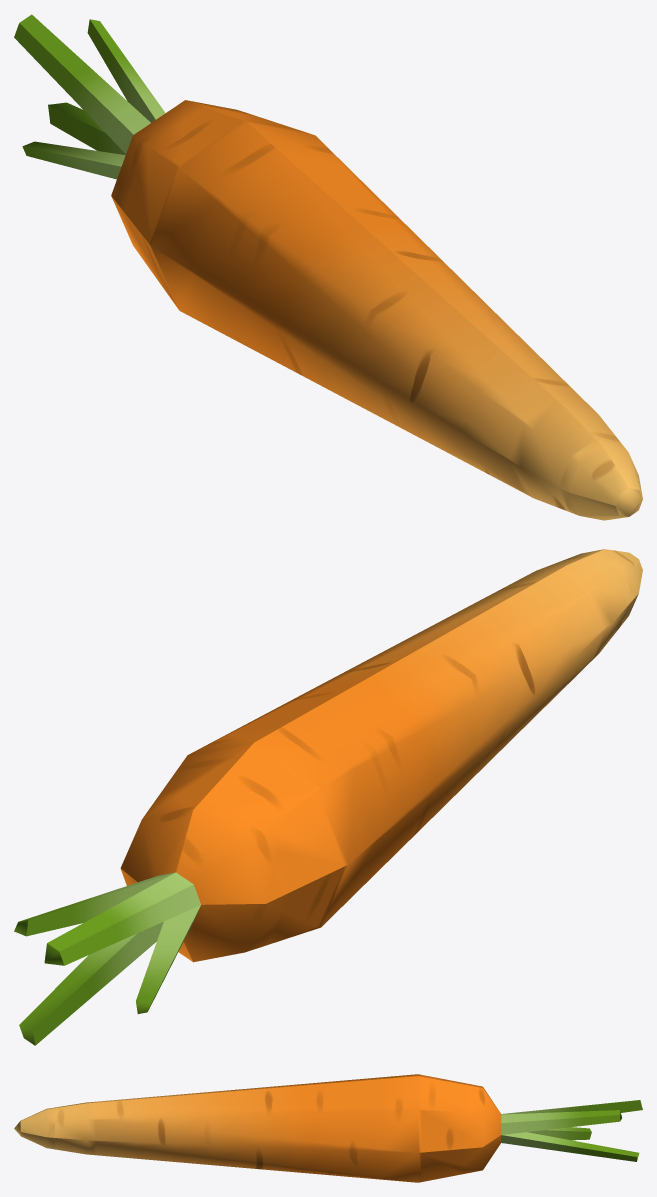
Rendered from carrot.fbx.
3 renders of one model, top to bottom at view 1: azimuth 30°, elevation 25°; view 2: azimuth 150°, elevation 25°; view 3: azimuth 270°, elevation 25°, orthographic. The views are drawn at different scales.
Parts seen in each view (by area): view 1: Carrot_1, Carrot_0.009, Carrot_0.008, Carrot_0.007, Carrot_0.006, Carrot_0.005, Carrot_0.004, Carrot_0.003, Carrot_0.002, Carrot_0.010, Carrot_0.001, Carrot (+1 smaller); view 2: Carrot_0.011, Carrot_1, Carrot_0.010, Carrot_0.009, Carrot_0.008, Carrot_0.007, Carrot_0.006, Carrot_0.005, Carrot_0.004, Carrot_0.003, Carrot_0.002, Carrot_0.001 (+1 smaller); view 3: Carrot_1, Carrot_0.009, Carrot_0.010, Carrot_0.008, Carrot_0.007, Carrot_0.006, Carrot_0.005, Carrot_0.004, Carrot_0.011, Carrot_0.003, Carrot_0.002, Carrot_0.001 (+1 smaller).
Boxes of the visible parts, <box> form: Carrot_1: <box>14,14,165,179</box>; Carrot_0.009: <box>149,121,346,331</box>; Carrot_0.008: <box>192,154,381,354</box>; Carrot_0.007: <box>238,189,415,377</box>; Carrot_0.006: <box>283,224,450,400</box>; Carrot_0.005: <box>328,259,485,423</box>; Carrot_0.004: <box>374,295,520,446</box>; Carrot_0.003: <box>419,330,554,469</box>; Carrot_0.002: <box>464,365,589,492</box>; Carrot_0.010: <box>124,107,309,306</box>; Carrot_0.001: <box>509,400,621,511</box>; Carrot: <box>559,439,642,520</box>; Carrot_0.011: <box>120,788,292,962</box>; Carrot_1: <box>14,872,200,1045</box>; Carrot_0.010: <box>156,746,344,943</box>; Carrot_0.009: <box>185,722,378,928</box>; Carrot_0.008: <box>227,701,410,896</box>; Carrot_0.007: <box>270,679,442,862</box>; Carrot_0.006: <box>312,657,475,828</box>; Carrot_0.005: <box>355,635,507,795</box>; Carrot_0.004: <box>398,613,540,761</box>; Carrot_0.003: <box>441,592,572,728</box>; Carrot_0.002: <box>484,570,604,694</box>; Carrot_0.001: <box>526,552,633,661</box>; Carrot_1: <box>501,1100,642,1161</box>; Carrot_0.009: <box>381,1074,421,1182</box>; Carrot_0.010: <box>421,1075,462,1181</box>; Carrot_0.008: <box>340,1077,380,1179</box>; Carrot_0.007: <box>299,1081,340,1175</box>; Carrot_0.006: <box>258,1084,299,1172</box>; Carrot_0.005: <box>218,1087,258,1168</box>; Carrot_0.004: <box>177,1091,217,1165</box>; Carrot_0.011: <box>462,1082,501,1174</box>; Carrot_0.003: <box>136,1094,177,1162</box>; Carrot_0.002: <box>96,1098,136,1158</box>; Carrot_0.001: <box>55,1101,95,1155</box>.
Size of the model in its own units: 28.43 by 28.43 by 155.
